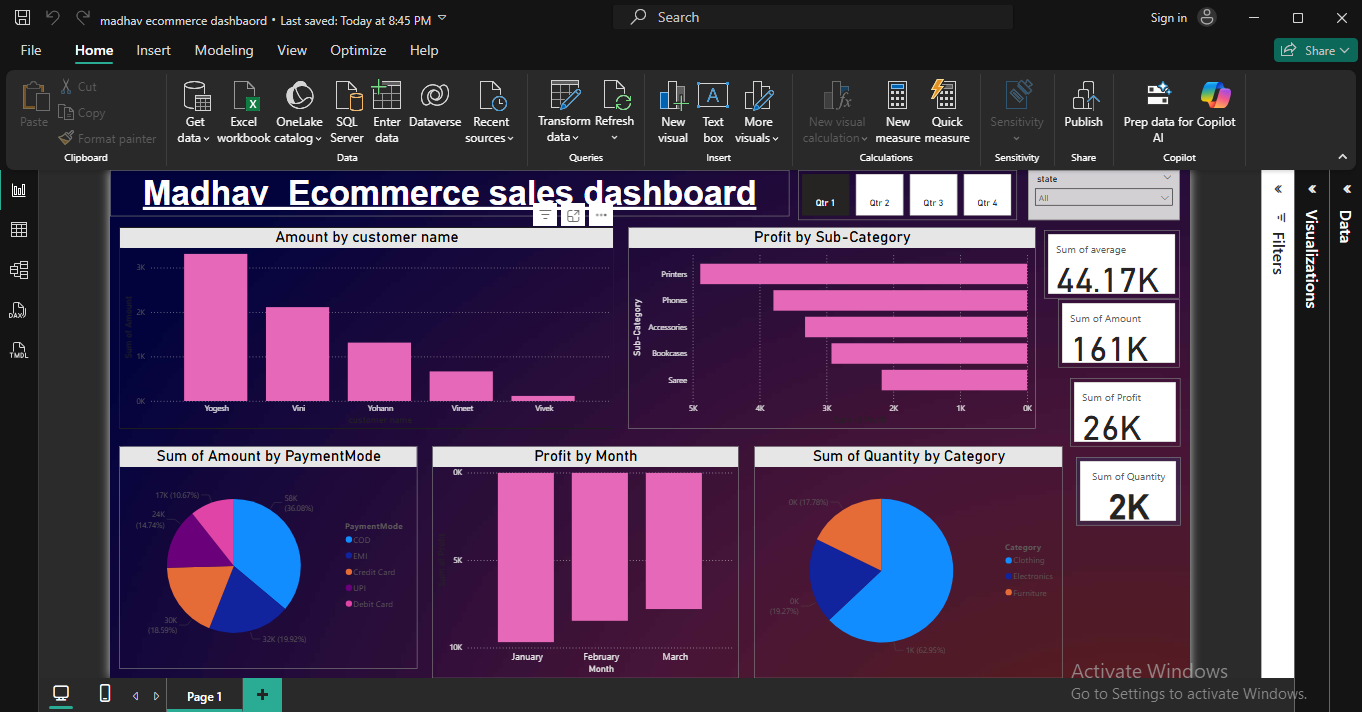

This screenshot's page, from the dashboard's own definition file:
{"tool":"powerbi","page":{"name":"Page 1","canvas":[1700,800],"ordinal":0},"visuals":[{"type":"textbox","box":[0,0,1069.6,72.7],"z":0},{"type":"clusteredColumnChart","title":" Profit by Month","fields":{"Category":["Orders (1).order date.Variation.Date Hierarchy.Month"],"Y":["Details.Profit"]},"box":[506.3,435.1,482.6,365.6],"z":1000},{"type":"clusteredBarChart","title":"Profit by Sub-Category","fields":{"Category":["Details.Sub-Category"],"Y":["Details.Profit"]},"box":[815.3,89.6,641.6,318.1],"z":2000},{"type":"pieChart","fields":{"Y":["Details.Quantity"],"Category":["Details.Category"]},"box":[1014.5,435.1,486.2,365.6],"z":3000},{"type":"advancedSlicerVisual","fields":{"Values":["Orders (1).order date.Variation.Date Hierarchy.Quarter"]},"box":[1084,0,345.5,78.6],"z":4000},{"type":"cardVisual","fields":{"Data":["Details.Amount"]},"box":[1493.4,202.9,191.9,107.8],"z":5000},{"type":"cardVisual","fields":{"Data":["Details.Profit"]},"box":[1511.7,327.2,173.7,107.8],"z":6000},{"type":"columnChart","title":"Amount by customer name","fields":{"Y":["Details.Amount"],"Category":["Orders (1).customer name"]},"box":[14.6,89.6,778.7,318.1],"z":7000},{"type":"pieChart","fields":{"Category":["Details.PaymentMode"],"Y":["Details.Amount"]},"box":[14.6,435.1,469.8,351],"z":8000},{"type":"cardVisual","fields":{"Data":["Details.Quantity"]},"box":[1520.9,451.5,164.5,107.8],"z":9000},{"type":"cardVisual","fields":{"Data":["Details.average"]},"box":[1471.5,95.1,213.9,107.8],"z":10000},{"type":"slicer","fields":{"Values":["Orders (1).state"]},"box":[1445.9,0,239.5,78.6],"z":11000}]}

Visuals, with their boxes on the page's 1700x800 design canvas (x1, y1, x2, y2). These are canvas units, not pixel positions in the 1362x712 screenshot, which may show the page scaled, cropped or inside an application window:
textbox: x1=0, y1=0, x2=1070, y2=73
" Profit by Month" clusteredColumnChart: x1=506, y1=435, x2=989, y2=801
"Profit by Sub-Category" clusteredBarChart: x1=815, y1=90, x2=1457, y2=408
pieChart - Details.Quantity x Details.Category: x1=1014, y1=435, x2=1501, y2=801
advancedSlicerVisual - Orders (1).order date.Variation.Date Hierarchy.Quarter: x1=1084, y1=0, x2=1430, y2=79
cardVisual - Details.Amount: x1=1493, y1=203, x2=1685, y2=311
cardVisual - Details.Profit: x1=1512, y1=327, x2=1685, y2=435
"Amount by customer name" columnChart: x1=15, y1=90, x2=793, y2=408
pieChart - Details.PaymentMode x Details.Amount: x1=15, y1=435, x2=484, y2=786
cardVisual - Details.Quantity: x1=1521, y1=452, x2=1685, y2=559
cardVisual - Details.average: x1=1472, y1=95, x2=1685, y2=203
slicer - Orders (1).state: x1=1446, y1=0, x2=1685, y2=79
